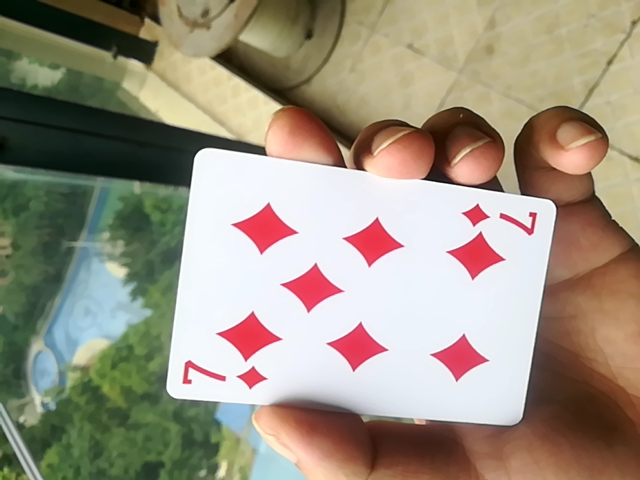fk 7: (156, 147, 553, 430)
